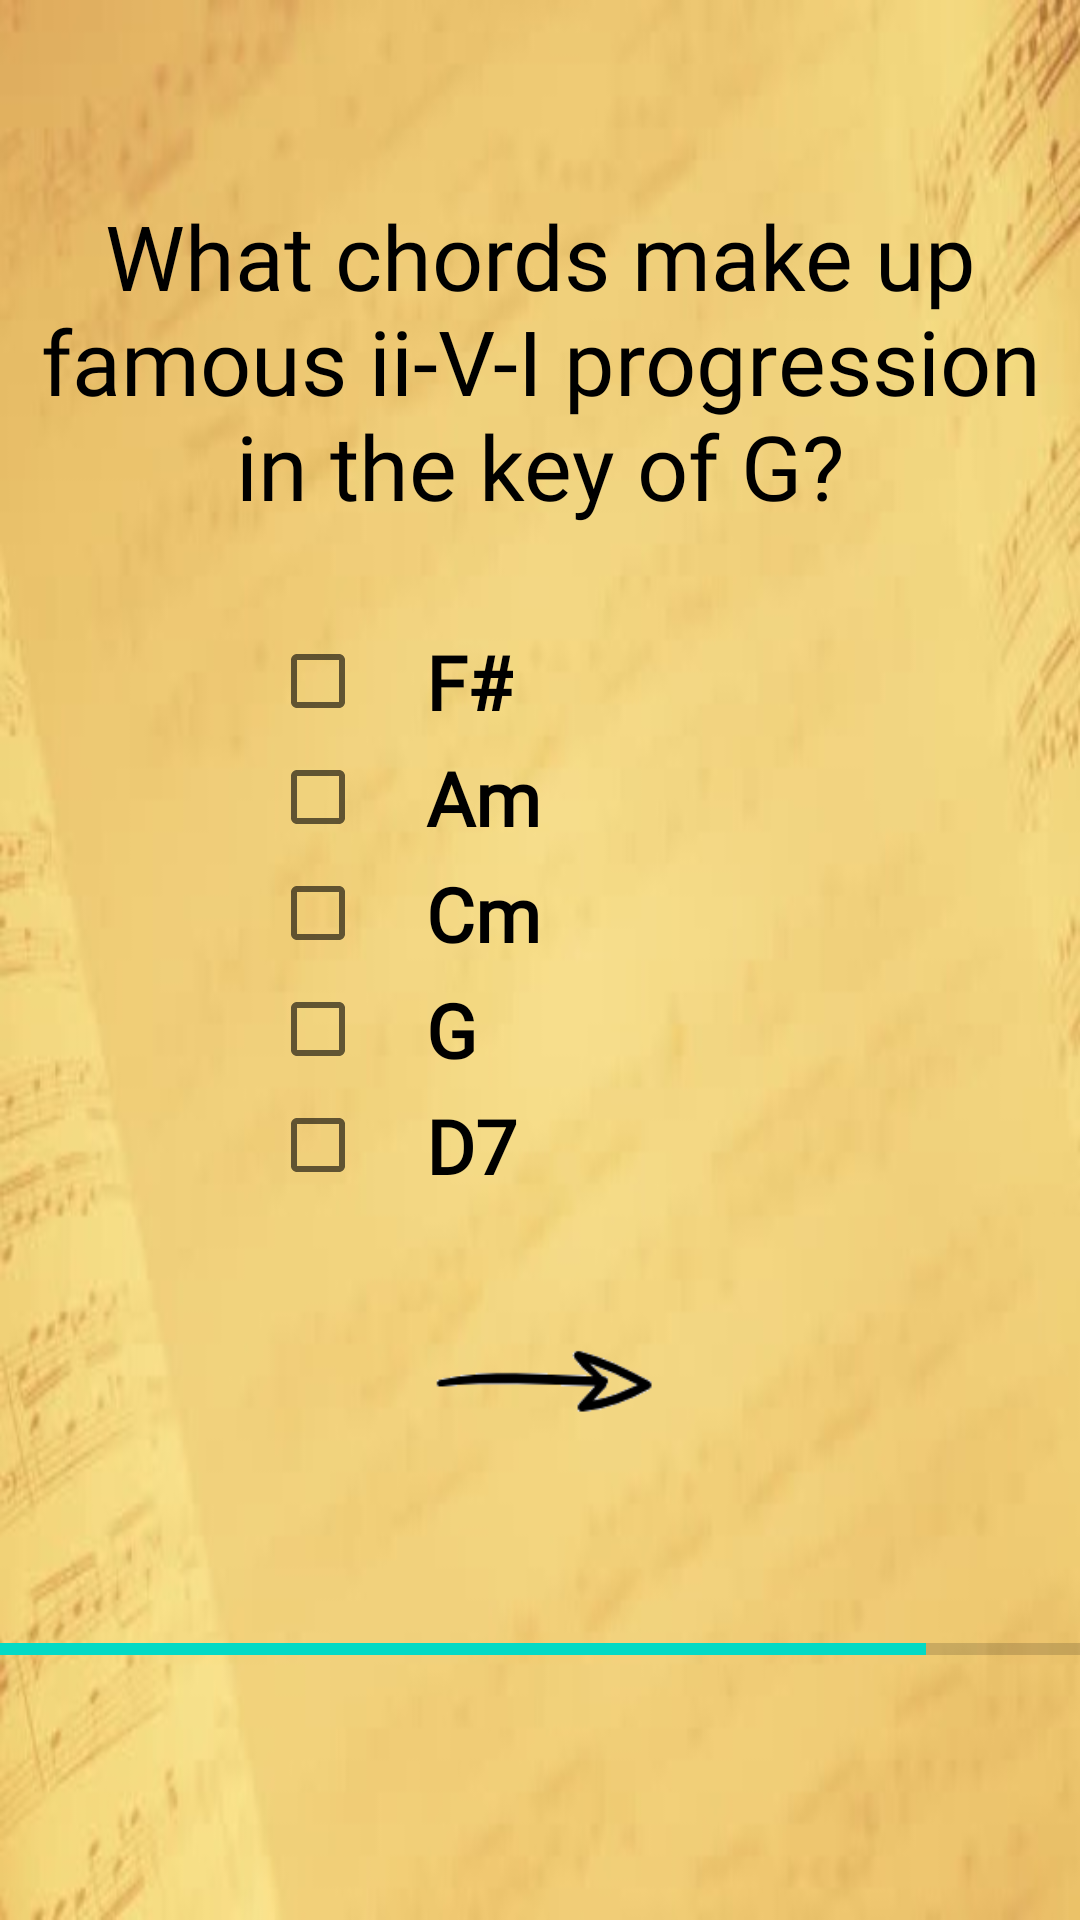

Icon click points for this 1080w x 1920h phone screenshot, format [x,y]:
arrow: [544,1381]
